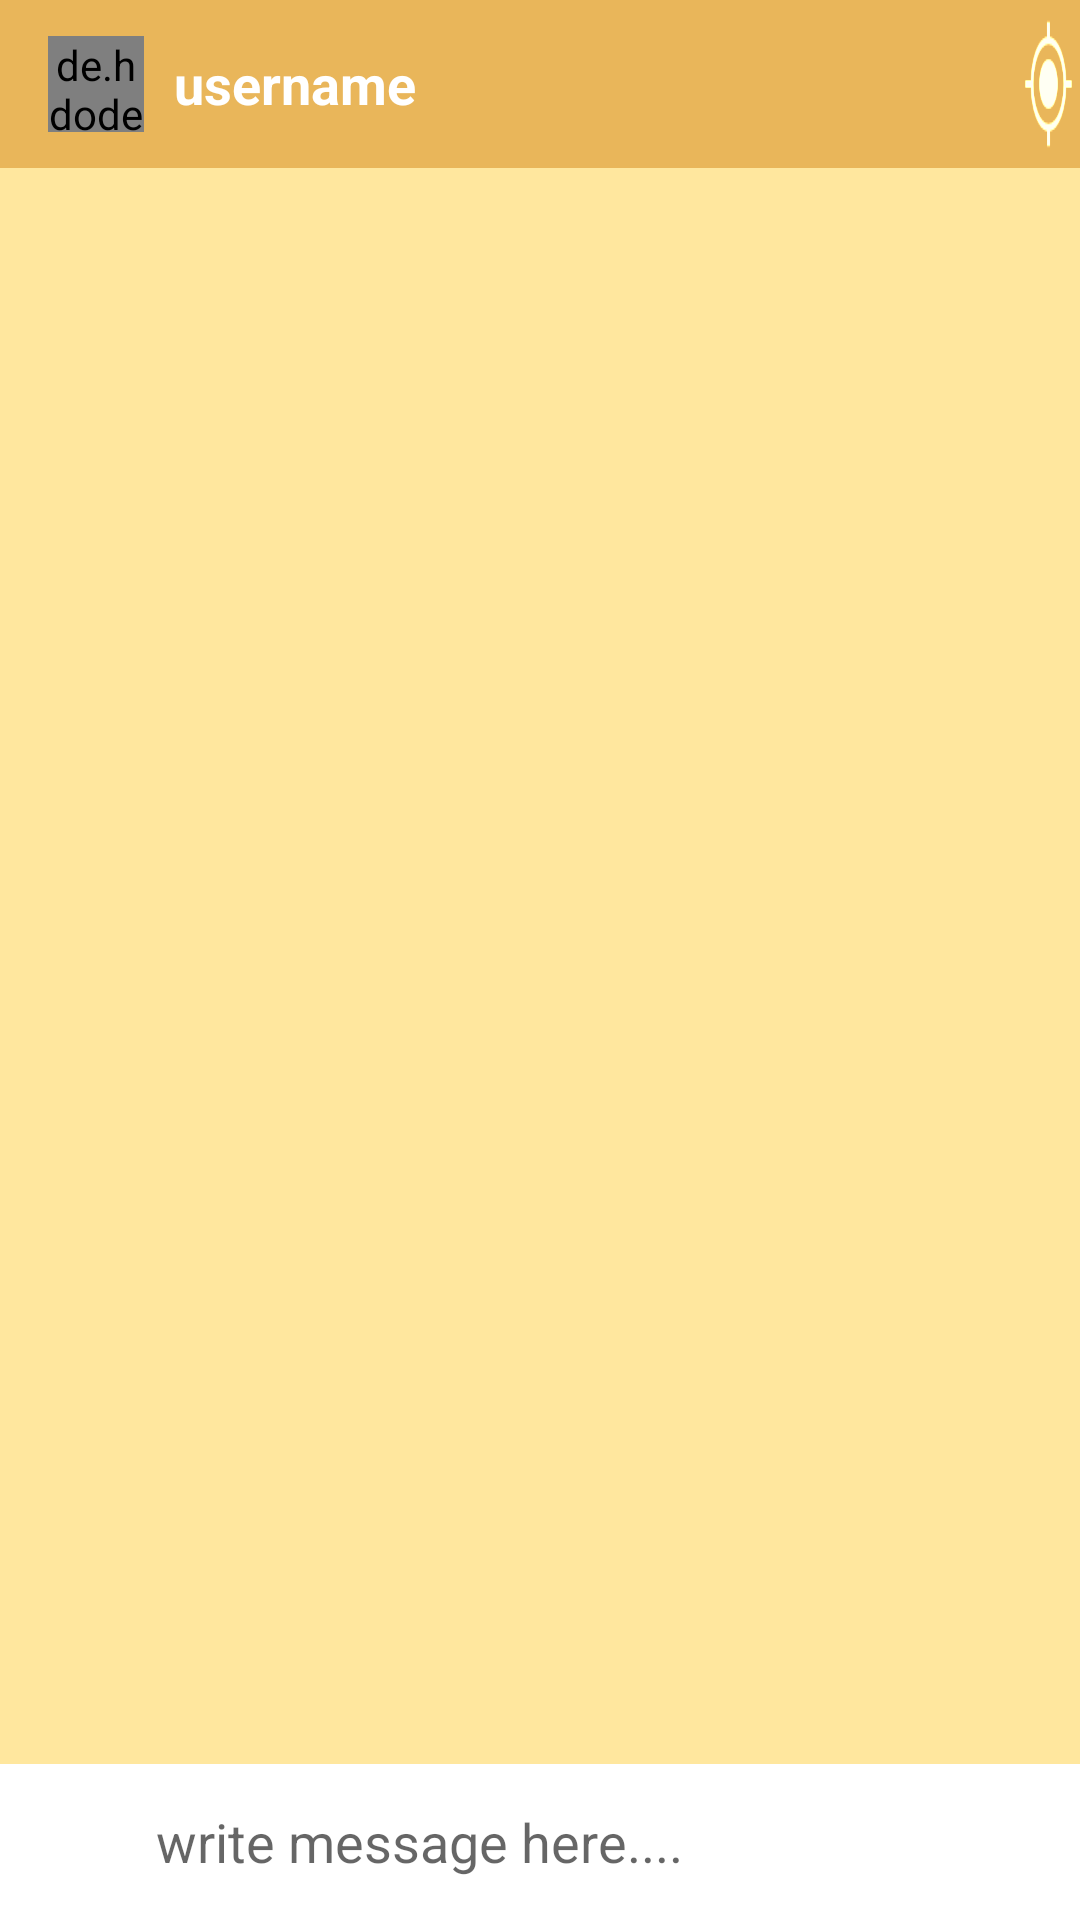

Locate icon controls on the screen. Image size 1080x1920, boxes as (x1, y1, x2, y2).
mylocation: (1025, 22, 1072, 146)
